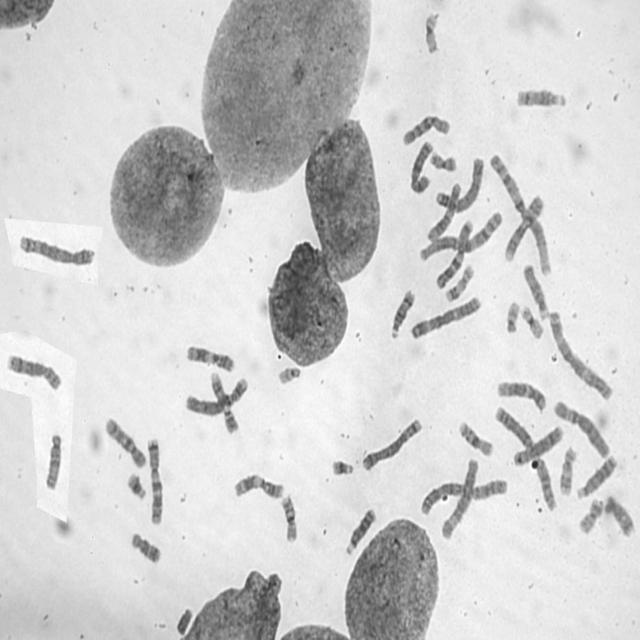A1: (488, 150, 552, 276), (418, 208, 503, 262)
A2: (492, 401, 558, 516), (417, 475, 509, 516)
A3: (548, 308, 613, 402), (408, 292, 483, 341)
B4: (433, 153, 485, 214), (183, 374, 249, 418)
B5: (359, 415, 424, 472), (17, 230, 96, 268)
C10: (103, 414, 146, 471), (399, 110, 452, 148)
C11: (184, 342, 236, 373), (231, 471, 285, 500)
C12: (424, 178, 462, 244), (494, 377, 548, 413)
C6: (552, 397, 611, 460), (438, 456, 481, 540)
C7: (433, 216, 474, 290), (145, 434, 164, 526)
C8: (5, 350, 63, 392), (511, 423, 565, 468)
C9: (502, 193, 546, 263), (208, 370, 239, 434)
D13: (574, 451, 618, 500), (343, 504, 378, 557)
D14: (388, 285, 416, 341), (513, 84, 569, 110)
D15: (521, 262, 549, 322), (42, 428, 65, 494)
E16: (456, 418, 494, 458), (280, 492, 298, 544)
E17: (443, 261, 476, 304), (557, 444, 578, 498)
E18: (603, 492, 636, 538), (128, 528, 162, 566)
F19: (519, 302, 545, 341), (422, 9, 441, 56)
F20: (576, 496, 605, 536), (428, 148, 458, 174)
G21: (126, 470, 147, 501), (329, 456, 356, 478)
G22: (504, 298, 521, 335), (276, 362, 302, 386)
X: (407, 138, 435, 195)
Y: (174, 604, 194, 637)
